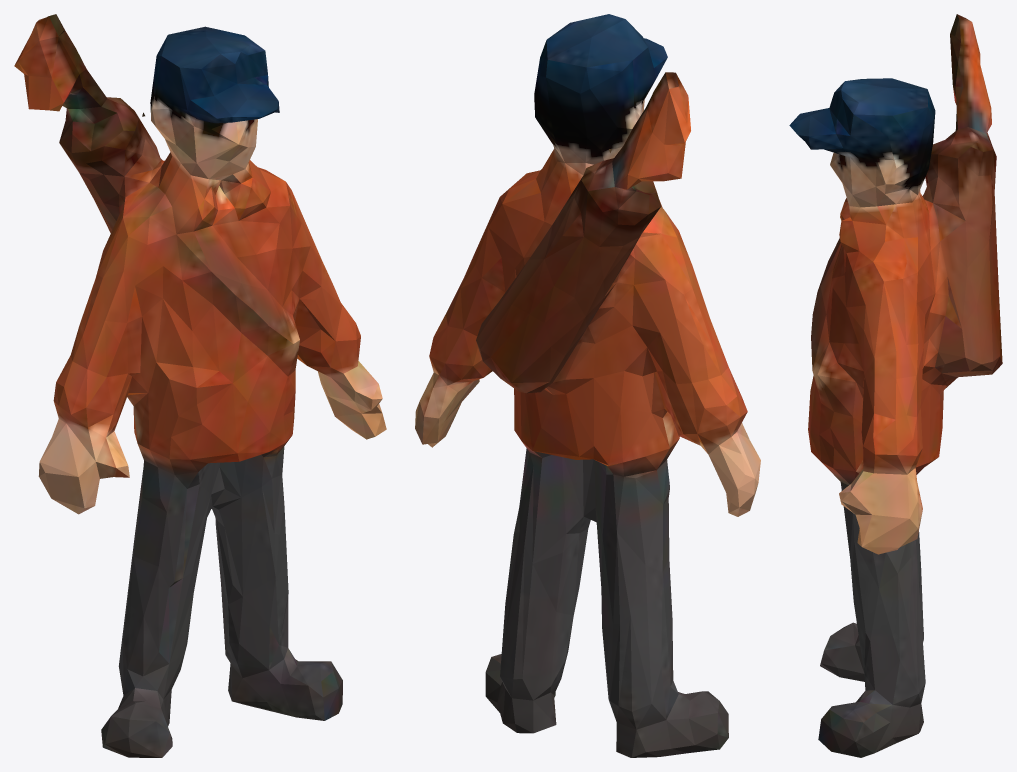
File: habitant-loin.glb
3 renders of one model, left to right at view 1: azimuth 30°, elevation 25°; view 2: azimuth 150°, elevation 25°; view 3: azimuth 270°, elevation 25°, orthographic. The views are drawn at different scales.
Visible parts, largest first — view 1: habitant; view 2: habitant; view 3: habitant.
Boxes of the visible parts, x1=… form: habitant: x1=14, y1=14, x2=386, y2=757; habitant: x1=415, y1=14, x2=760, y2=757; habitant: x1=789, y1=14, x2=1002, y2=757.
Bounding box in the file's own units: 0.4903 × 1 × 0.3016.
1 material, 1 textured.
